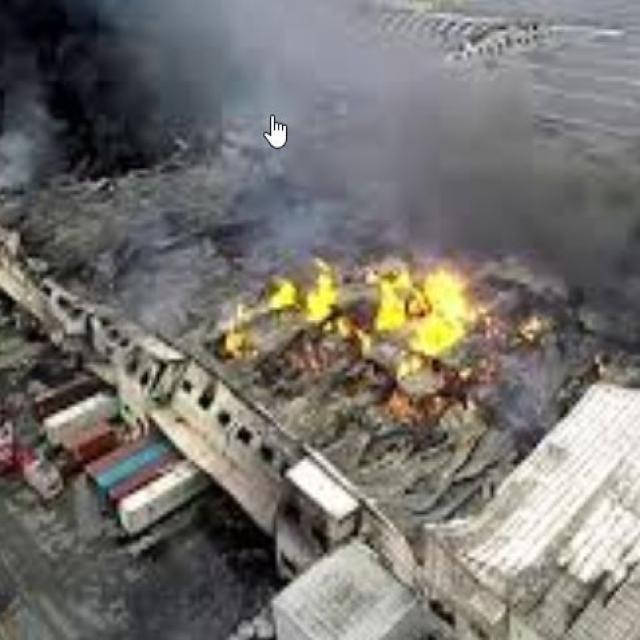Fire: (255, 264, 509, 395)
Smoke: (0, 0, 629, 286)
